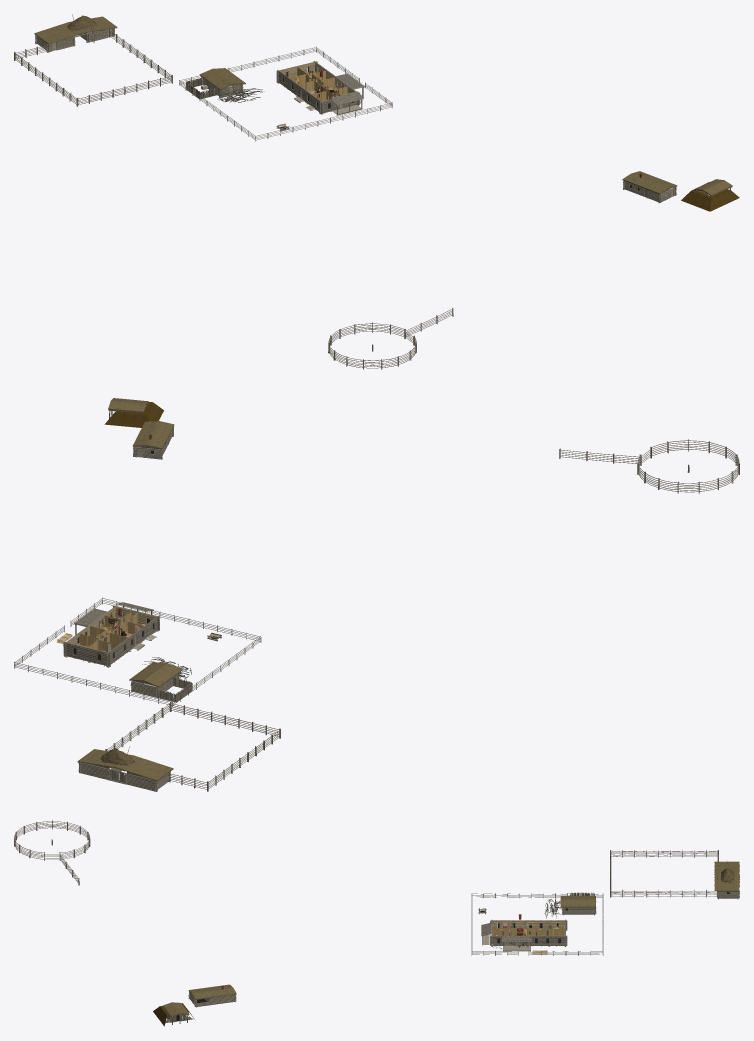
Rendered from elkhorn_site_open.glb.
3 renders of one model, top to bottom at view 1: azimuth 30°, elevation 25°; view 2: azimuth 150°, elevation 25°; view 3: azimuth 270°, elevation 25°, orthographic. The views are drawn at different scales.
Parts seen in each view (by area): view 1: fences_pole, corral_pole, house_log, interior_pine, barn_sod, fences_post, dugout_grass, blacksmith_sod, barn_rlog, shed_sod; view 2: fences_pole, corral_pole, house_log, interior_pine, barn_rlog, barn_sod, fences_post, dugout_grass, blacksmith_sod, shed_sod; view 3: fences_pole, corral_pole, house_log, barn_sod, interior_pine, blacksmith_sod, fences_post, house_ilog, shed_sod.
Boxes of the visible parts, x1,y1,x2,y2 form: fences_pole: (15, 30, 392, 140); corral_pole: (328, 309, 452, 368); house_log: (277, 61, 362, 115); interior_pine: (290, 67, 347, 101); barn_sod: (34, 16, 116, 44); fences_post: (14, 29, 392, 141); dugout_grass: (681, 182, 739, 211); blacksmith_sod: (622, 171, 677, 194); barn_rlog: (35, 28, 114, 52); shed_sod: (199, 68, 245, 89); fences_pole: (14, 598, 279, 789); corral_pole: (560, 440, 739, 492); house_log: (63, 605, 159, 666); interior_pine: (79, 611, 143, 652); barn_rlog: (78, 762, 170, 791); barn_sod: (77, 749, 173, 780); fences_post: (14, 597, 280, 791); dugout_grass: (104, 402, 163, 427); blacksmith_sod: (132, 421, 174, 449); shed_sod: (129, 662, 182, 687); fences_pole: (472, 851, 718, 954); corral_pole: (14, 821, 89, 882); house_log: (482, 919, 567, 951); barn_sod: (714, 861, 739, 891); interior_pine: (492, 921, 564, 935); blacksmith_sod: (188, 984, 236, 999); fences_post: (471, 850, 718, 955); house_ilog: (492, 920, 564, 929); shed_sod: (560, 896, 595, 907).
Size of the model in its own units: 115 by 6.61 by 179.
44 materials, 44 textured.
